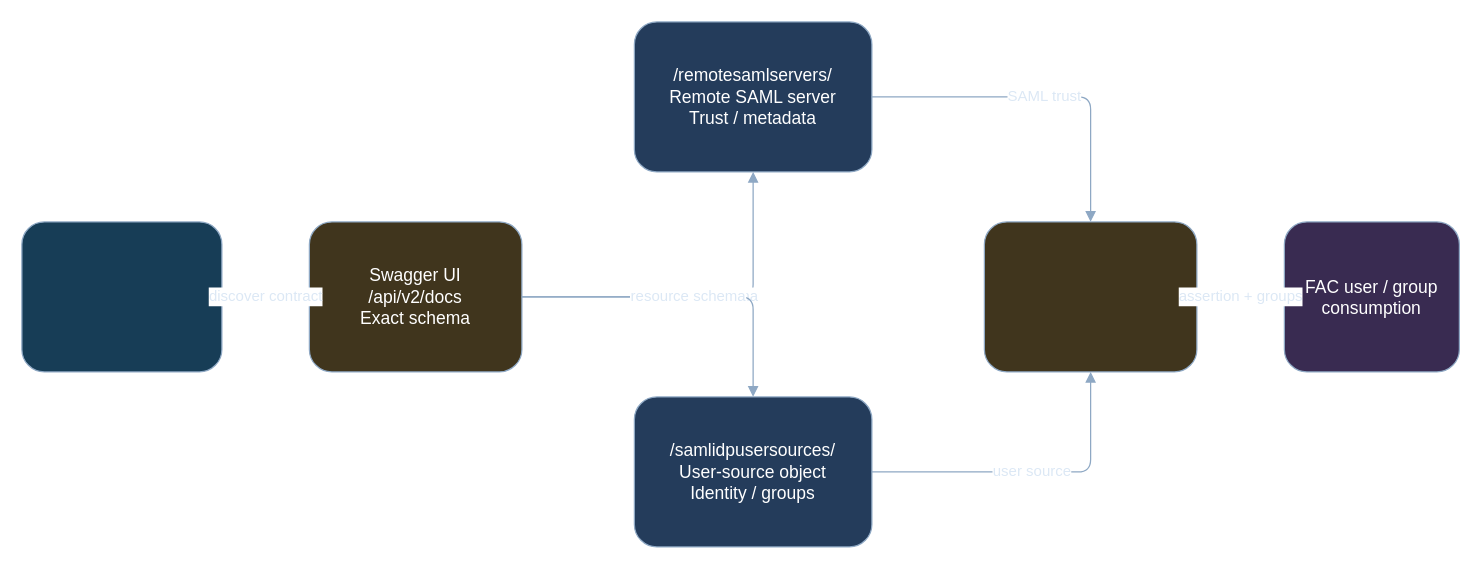
This 1481x569 diagram has some shape labels left out. Here are the shapes that lost their labels. From the top down, the centre of each, then its label:
At (x=121, y=296): "Provisioning client Least-privilege API credentials".
At (x=1090, y=296): "External SAML IdP Signing cert Assertions".
